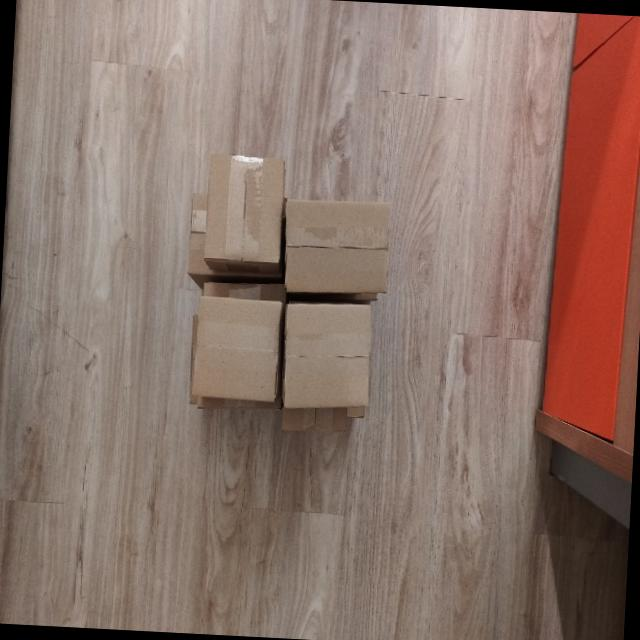box: (280, 194, 396, 301), (280, 297, 378, 415), (202, 150, 288, 280), (188, 294, 284, 406)
